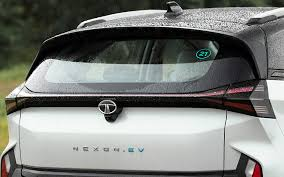Tata Nexon: (4, 1, 284, 177)
